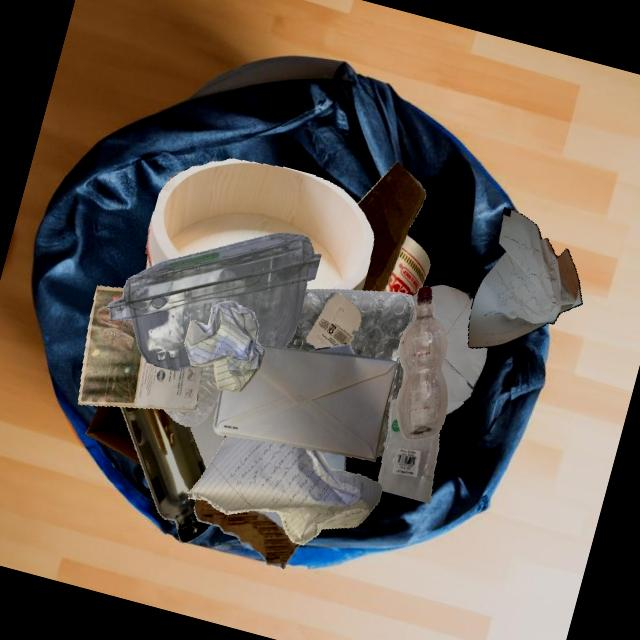cardboard: (226, 345, 345, 453), (357, 161, 425, 291), (251, 453, 345, 512), (235, 512, 300, 569), (85, 405, 141, 464), (188, 395, 224, 469)
combustible waste: (145, 158, 373, 290)
glass: (120, 406, 210, 542)
paper: (212, 344, 397, 461), (187, 435, 382, 544), (468, 207, 582, 348), (77, 285, 202, 412), (184, 300, 265, 393), (429, 284, 487, 398), (403, 306, 446, 389), (305, 294, 361, 348)
plastic: (106, 232, 321, 371), (284, 289, 413, 457), (396, 286, 447, 440), (377, 398, 439, 504), (163, 363, 219, 426)
trash: (382, 234, 430, 295)
